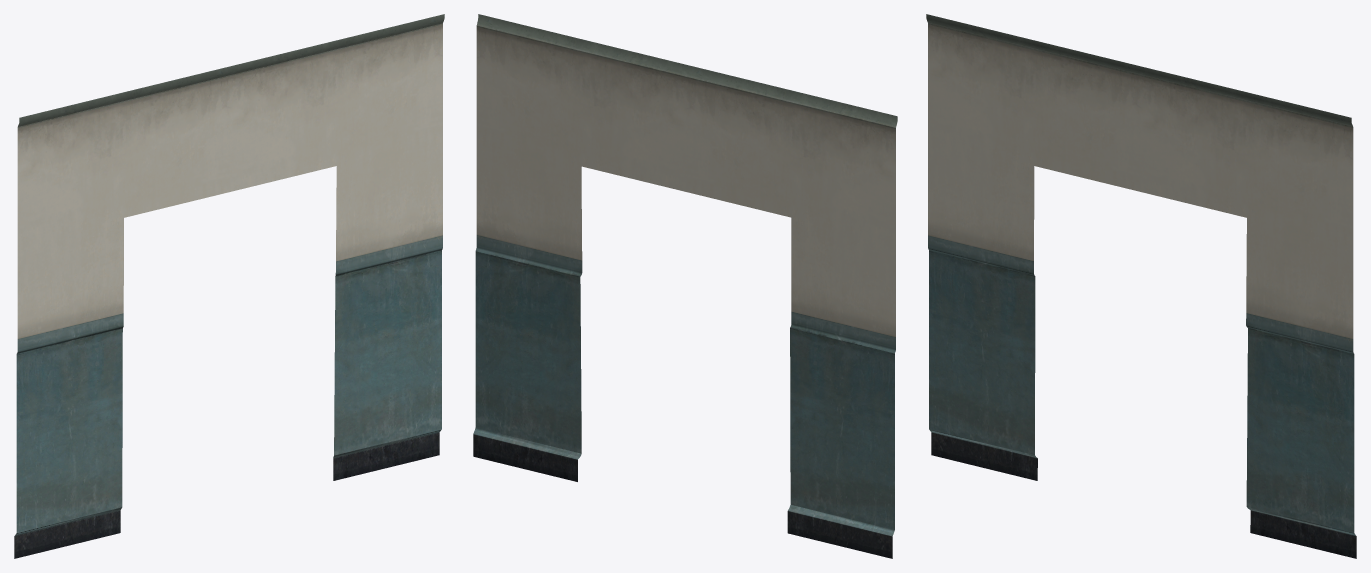
Rendered from scanroom_corridor_wall_flat_doorway.dae.
The picture shows the model from 3 angles, left to right: view 1: azimuth 30°, elevation 25°; view 2: azimuth 150°, elevation 25°; view 3: azimuth 330°, elevation 25°; orthographic projection.
Visible parts, largest first — view 1: pPlane9; view 2: pPlane9; view 3: pPlane9.
Boxes of the visible parts, <box> form: pPlane9: <box>14,14,444,558</box>; pPlane9: <box>473,14,897,558</box>; pPlane9: <box>926,14,1356,558</box>.
Size of the model in its own units: 400 by 400 by 8.52.
